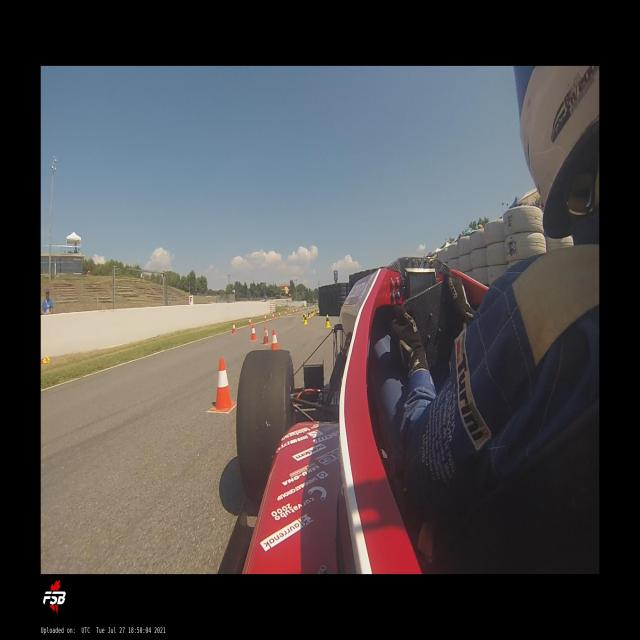orange_cone: (210, 357, 237, 411), (261, 325, 271, 345), (271, 330, 279, 350), (250, 324, 257, 341), (231, 322, 236, 334), (248, 317, 252, 326), (264, 314, 267, 322), (272, 313, 275, 320), (278, 312, 281, 318), (285, 311, 287, 316), (292, 309, 294, 314)
yellow_cone: (324, 314, 332, 327), (303, 313, 308, 325), (302, 311, 305, 321), (310, 308, 313, 316), (308, 311, 310, 319), (313, 308, 314, 315)
